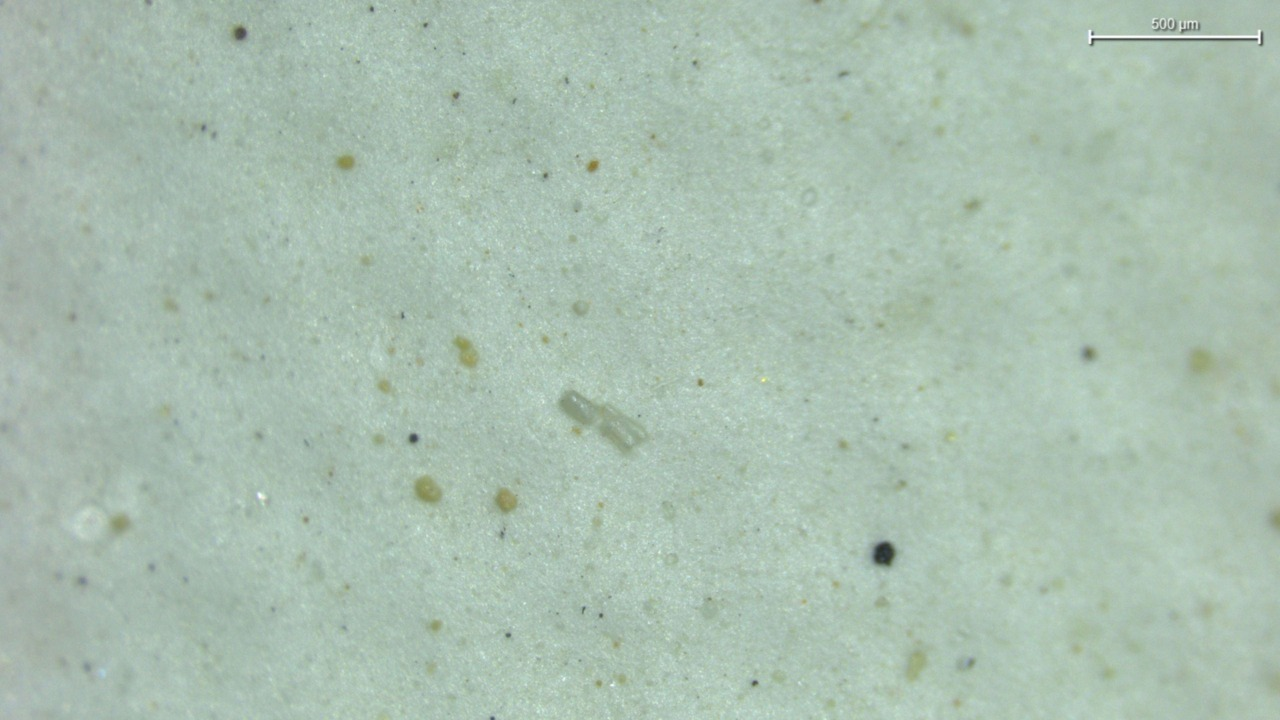microplastic_fragment: (558, 390, 646, 452)
